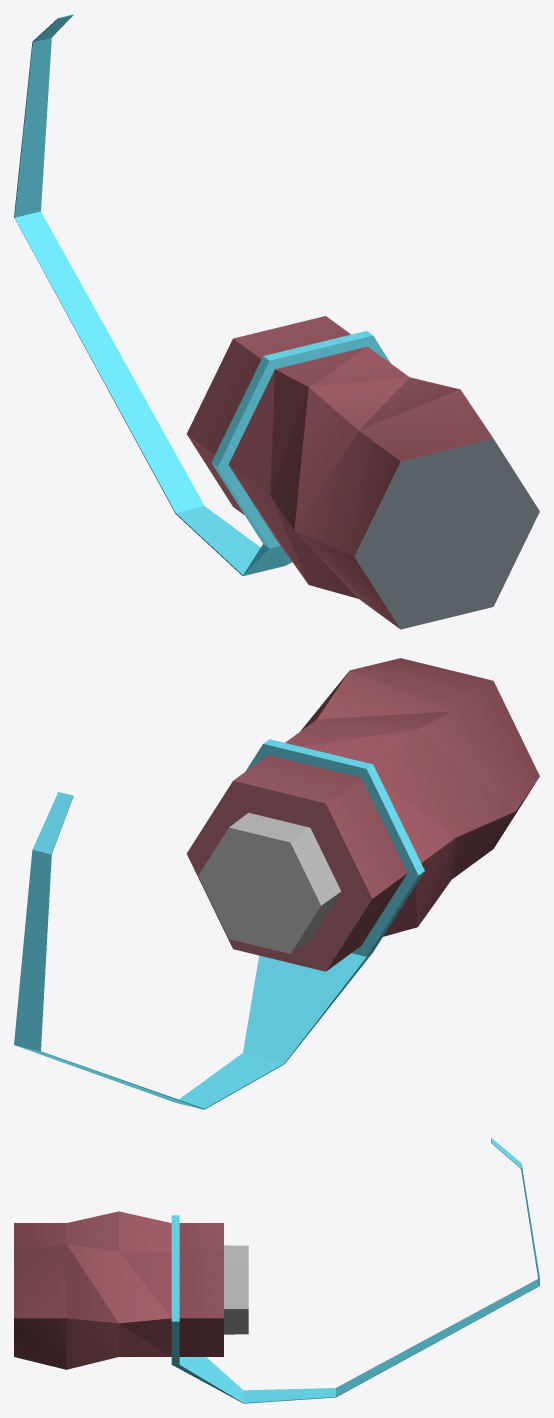
Rendered from battery.FBX.
The picture shows the model from 3 angles, top to bottom: view 1: azimuth 30°, elevation 25°; view 2: azimuth 150°, elevation 25°; view 3: azimuth 270°, elevation 25°; orthographic projection. The views are drawn at different scales.
Visible parts, largest first — view 1: Cylinder001; view 2: Cylinder001; view 3: Cylinder001.
Boxes of the visible parts, <box> form: Cylinder001: <box>14,14,539,629</box>; Cylinder001: <box>14,658,539,1109</box>; Cylinder001: <box>14,1138,539,1403</box>.
Size of the model in its own units: 243 by 433 by 804.
1 material, 1 textured.
